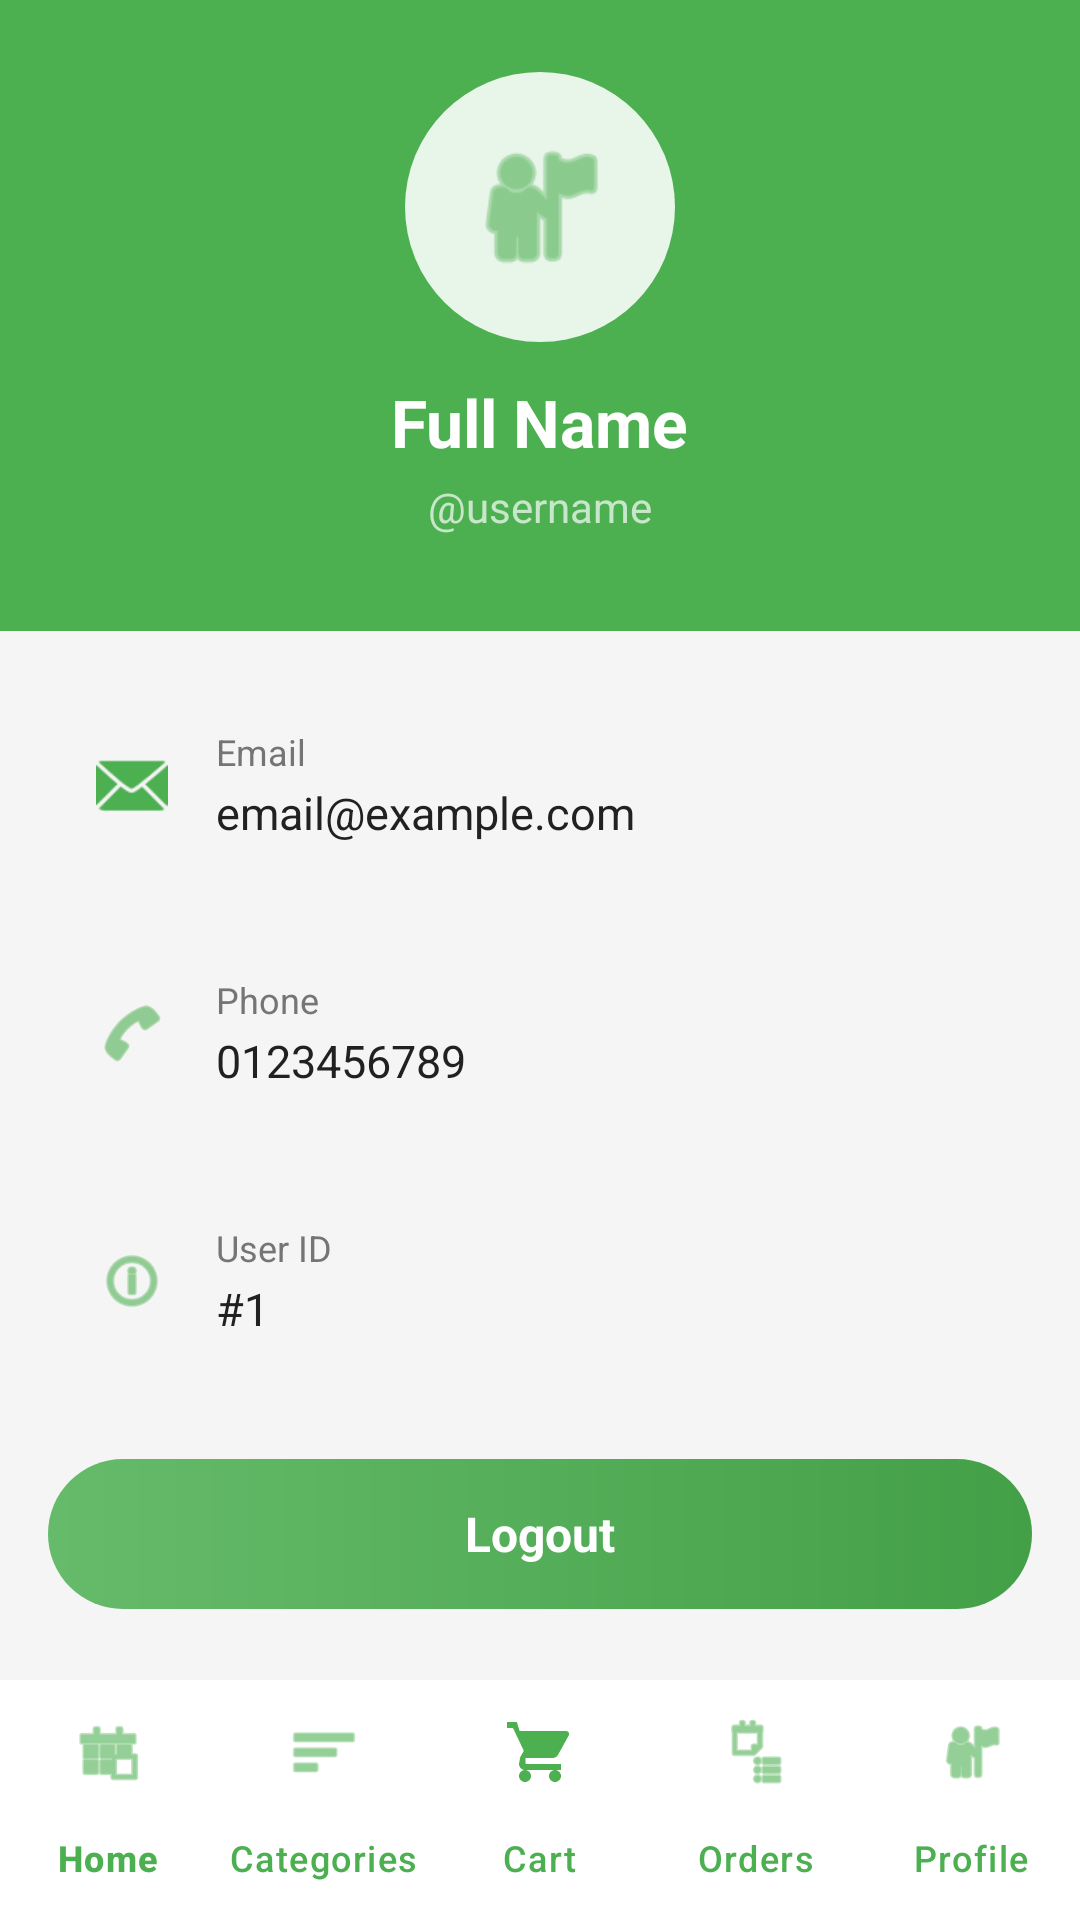

Where to tap for icons on this 1080 x 1920 app screen, as point (x, y):
Avatar: point (540, 207)
